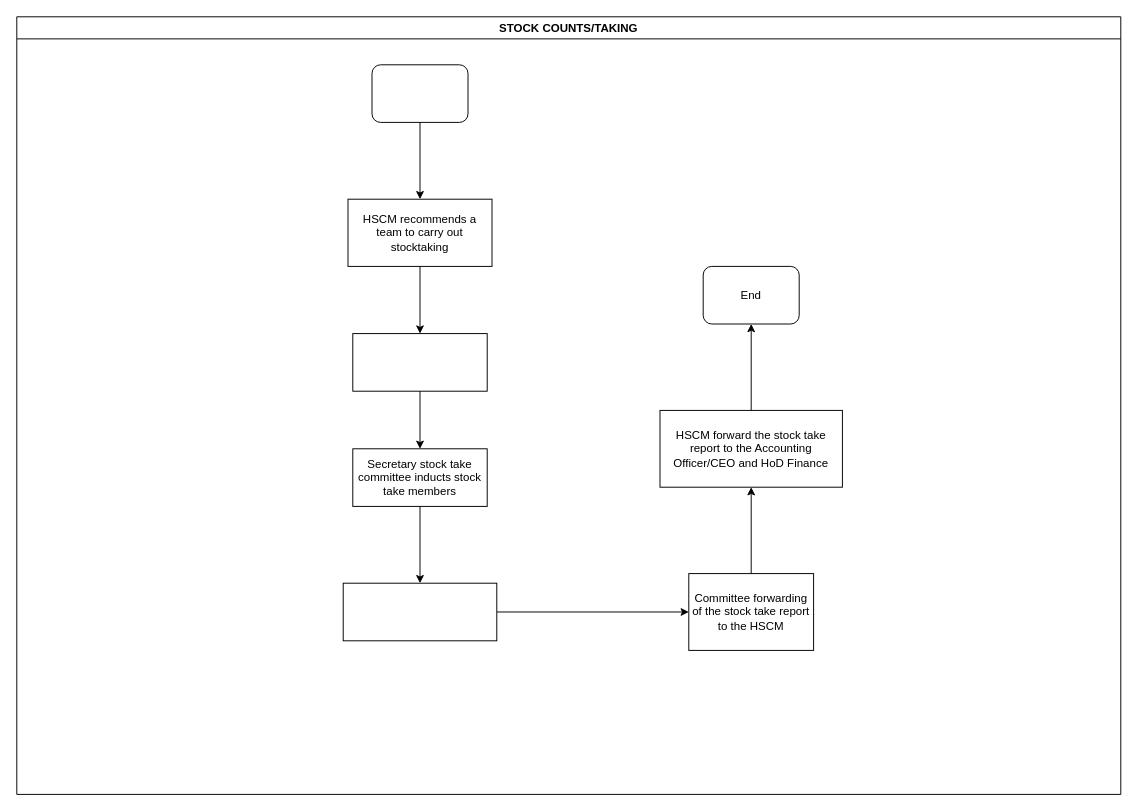
Some shapes in this 1138 by 811 pixel diagram are drawn without their labels. The box of each missing label's shape, as (x1, y1, x2, y2) in pixels:
Accounting officer/CEO appoints the team to carry out stocktaking: (352, 333, 487, 391)
Start: (371, 64, 468, 122)
Stock taking takes place based on data extracted from the system: (342, 582, 497, 641)
